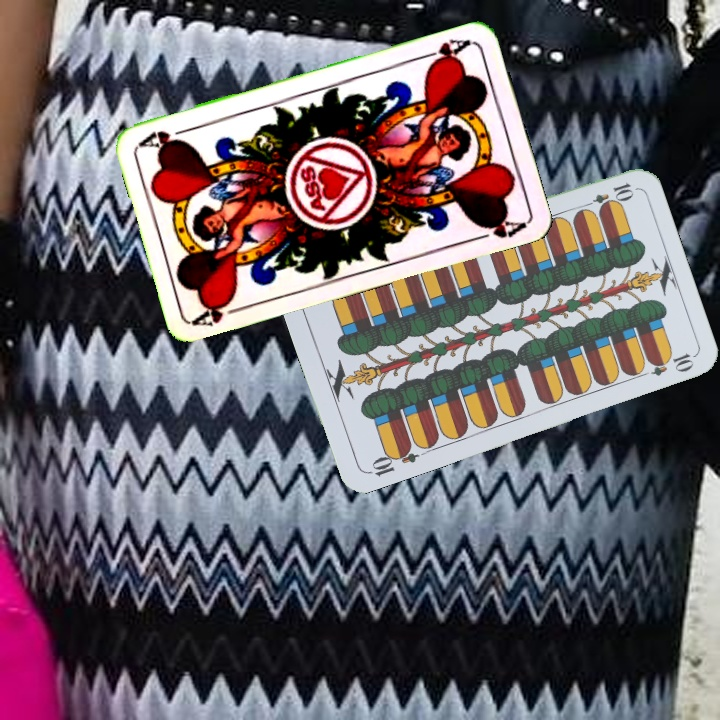E10: (363, 440, 421, 479), (578, 178, 636, 212)
HA: (190, 291, 249, 329), (415, 35, 473, 70)
